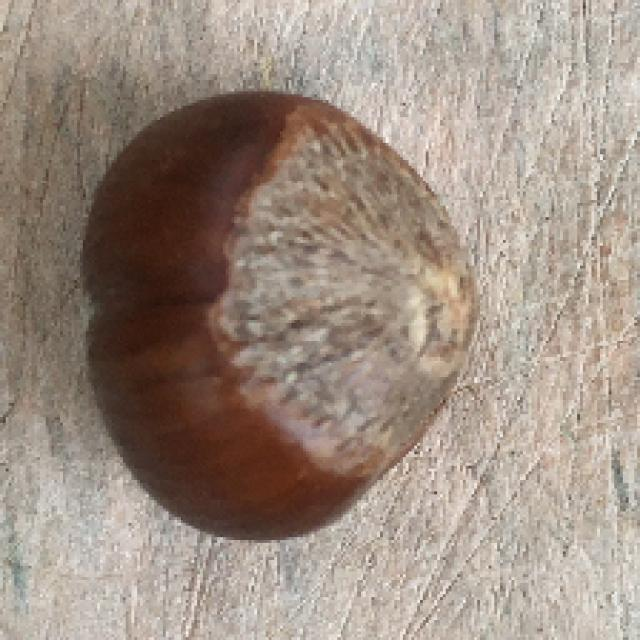qualityHazelnut: (77, 82, 473, 540)
